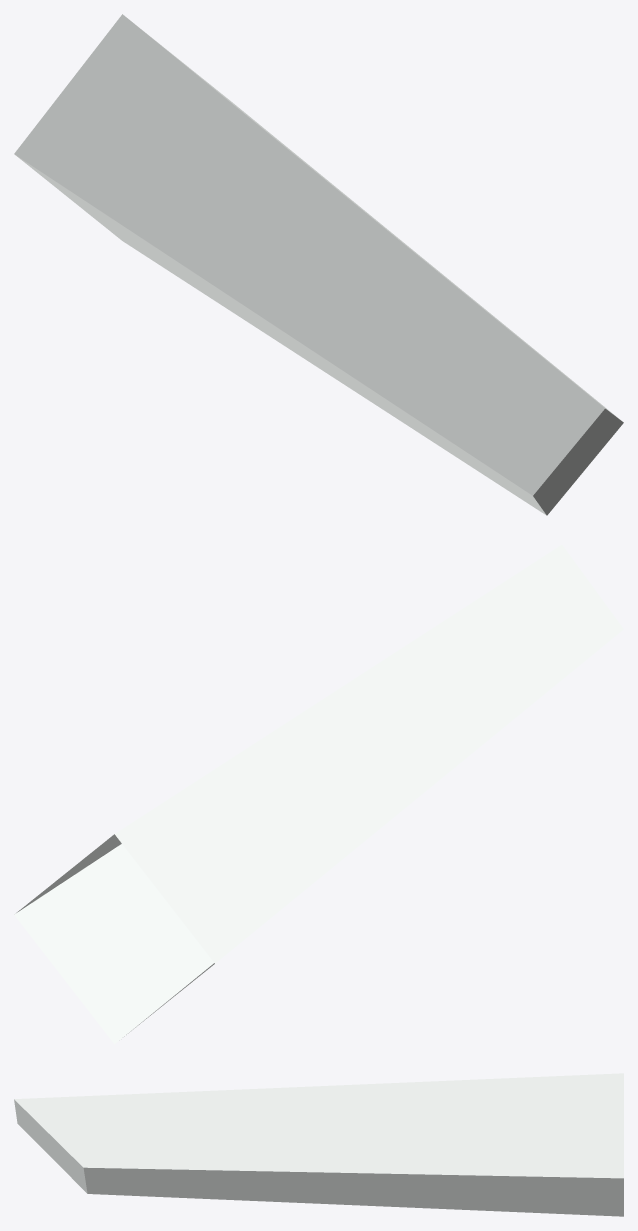
Rendered from Fragment013.fbx.
The picture shows the model from 3 angles, top to bottom: view 1: azimuth 30°, elevation 25°; view 2: azimuth 150°, elevation 25°; view 3: azimuth 270°, elevation 25°; orthographic projection. The views are drawn at different scales.
Parts seen in each view (by area): view 1: SatelliteFrag.013; view 2: SatelliteFrag.013; view 3: SatelliteFrag.013.
Part boxes in pixels (x1=…): SatelliteFrag.013: x1=14, y1=14, x2=623, y2=515; SatelliteFrag.013: x1=14, y1=545, x2=623, y2=1044; SatelliteFrag.013: x1=14, y1=1073, x2=623, y2=1216.
Size of the model in its own units: 14.07 by 14.07 by 54.26.
